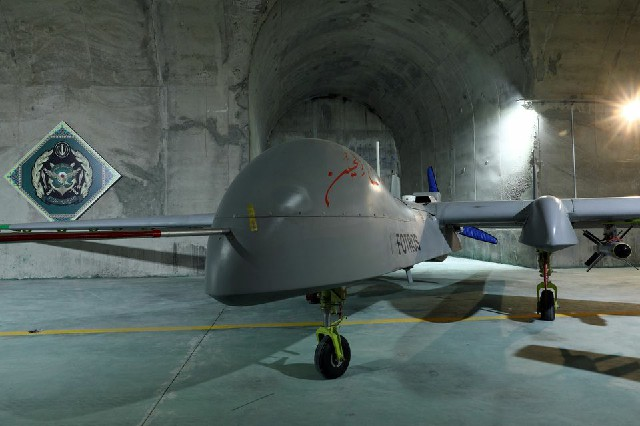maybay_khongnguoilai: (7, 138, 640, 339)
